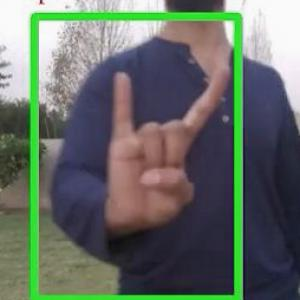takeoff-hand: (95, 38, 235, 255)
